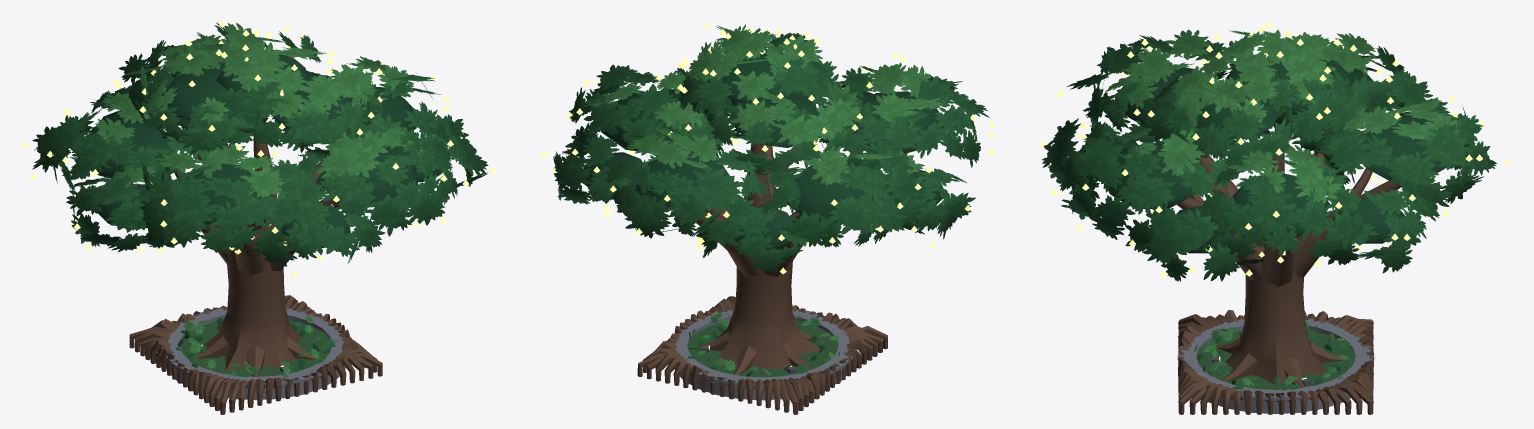
The model's file is tree_banyan.glb.
3 views of the same model, side by side, from view 1: azimuth 30°, elevation 25°; view 2: azimuth 150°, elevation 25°; view 3: azimuth 270°, elevation 25° (orthographic). The views are drawn at different scales.
Visible parts, largest first — view 1: canopy, body, lights; view 2: canopy, body, lights; view 3: canopy, body, lights.
Part boxes in pixels (x1,y1,x2,y2): canopy: [32, 22, 488, 266]; body: [129, 121, 382, 414]; lights: [22, 21, 496, 372]; canopy: [553, 24, 989, 272]; body: [637, 143, 887, 414]; lights: [541, 23, 995, 373]; canopy: [1042, 29, 1496, 281]; body: [1176, 128, 1400, 414]; lights: [1040, 21, 1511, 385].
Size of the model in its own units: 12.52 by 9.81 by 12.52.
5 materials, 1 textured.
